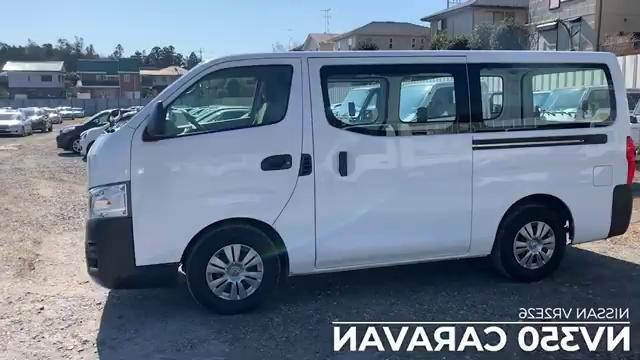van: (82, 48, 631, 313)
